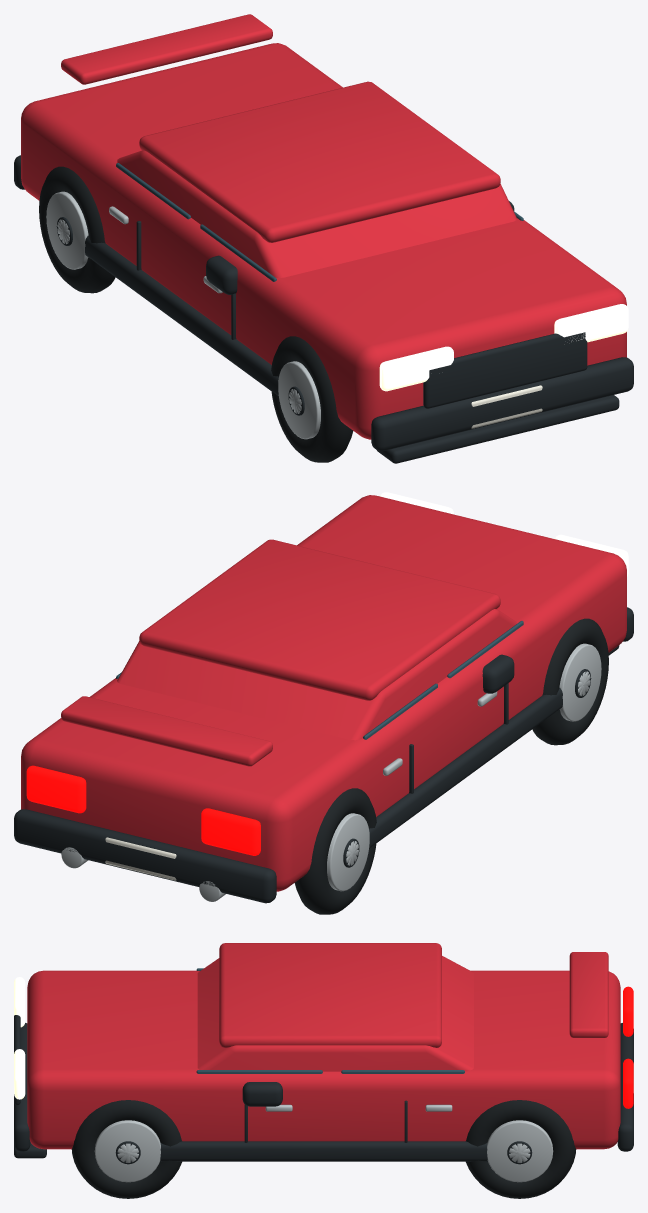
Rendered from vrrr-phaa-gti.glb.
The picture shows the model from 3 angles, top to bottom: view 1: azimuth 30°, elevation 25°; view 2: azimuth 150°, elevation 25°; view 3: azimuth 270°, elevation 25°; orthographic projection. The views are drawn at different scales.
Visible parts, largest first — view 1: body, roof, cabin_shell, bumper_front, grille_surround, spoiler, side_skirt_left, wheel_fl_tire, front_splitter, wheel_rl_tire, wheel_fl_rim, wheel_rl_rim (+4 smaller); view 2: body, roof, cabin_shell, bumper_rear, spoiler, side_skirt_left, wheel_rl_tire, wheel_fl_tire, wheel_rl_rim, brakelight_right, brakelight_left, wheel_fl_rim (+2 smaller); view 3: body, roof, cabin_shell, side_skirt_right, wheel_fr_tire, wheel_rr_tire, spoiler, wheel_fr_rim, wheel_rr_rim, bumper_rear, bumper_front, mirror_right (+6 smaller).
Part boxes in pixels (box(x1,y1,x2,y2)): body: box(21, 43, 626, 439); roof: box(139, 81, 500, 242); cabin_shell: box(117, 150, 516, 277); bumper_front: box(371, 357, 633, 451); grille_surround: box(423, 332, 587, 408); spoiler: box(61, 14, 272, 84); side_skirt_left: box(85, 235, 278, 396); wheel_fl_tire: box(271, 336, 353, 462); front_splitter: box(377, 395, 619, 463); wheel_rl_tire: box(39, 166, 115, 293); wheel_fl_rim: box(278, 361, 320, 439); wheel_rl_rim: box(46, 191, 88, 269); body: box(21, 495, 626, 891); roof: box(139, 539, 500, 700); cabin_shell: box(117, 609, 516, 740); bumper_rear: box(14, 809, 276, 903); spoiler: box(61, 696, 272, 766); side_skirt_left: box(369, 687, 562, 848); wheel_rl_tire: box(294, 788, 376, 914); wheel_fl_tire: box(532, 618, 608, 745); wheel_rl_rim: box(327, 813, 369, 891); brakelight_right: box(26, 765, 86, 813); brakelight_left: box(201, 808, 260, 855); wheel_fl_rim: box(559, 643, 601, 721); body: box(27, 970, 620, 1149); roof: box(219, 943, 441, 1048); cabin_shell: box(197, 956, 473, 1071); side_skirt_right: box(160, 1141, 487, 1161); wheel_fr_tire: box(71, 1100, 181, 1198); wheel_rr_tire: box(466, 1100, 576, 1198); spoiler: box(569, 952, 608, 1037); wheel_fr_rim: box(94, 1120, 160, 1182); wheel_rr_rim: box(487, 1120, 553, 1182); bumper_rear: box(617, 1023, 633, 1151); bumper_front: box(14, 1023, 30, 1151); mirror_right: box(242, 1082, 282, 1106).
Bounding box in the file's own units: 1.9 × 1.15 × 4.15.
